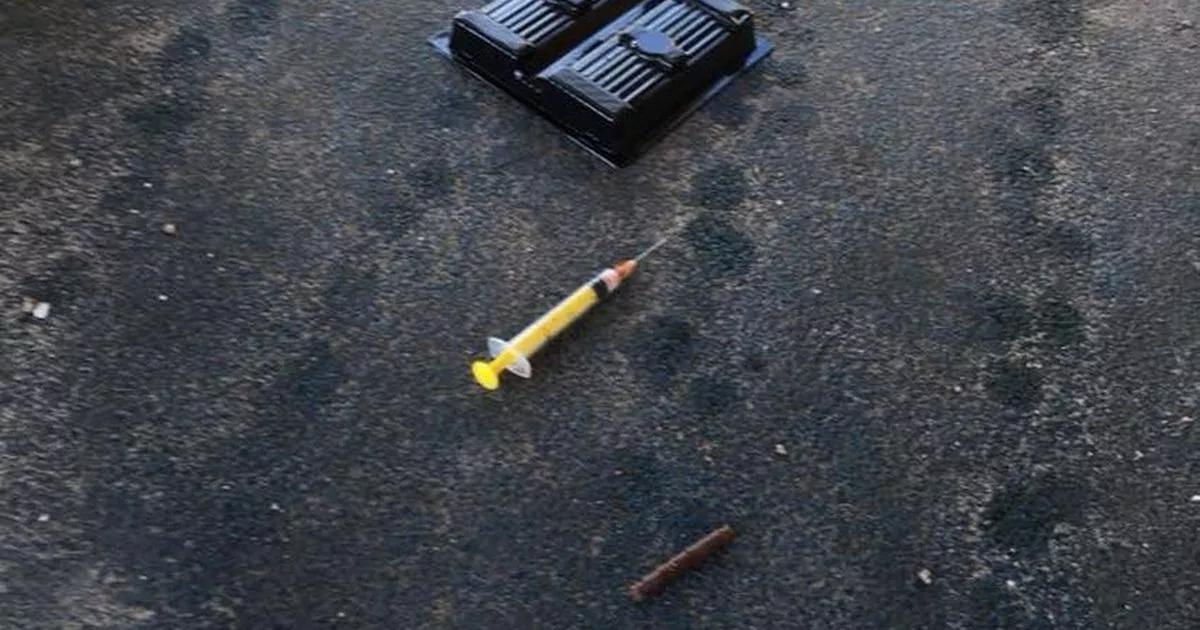Syringe: (472, 238, 666, 388)
